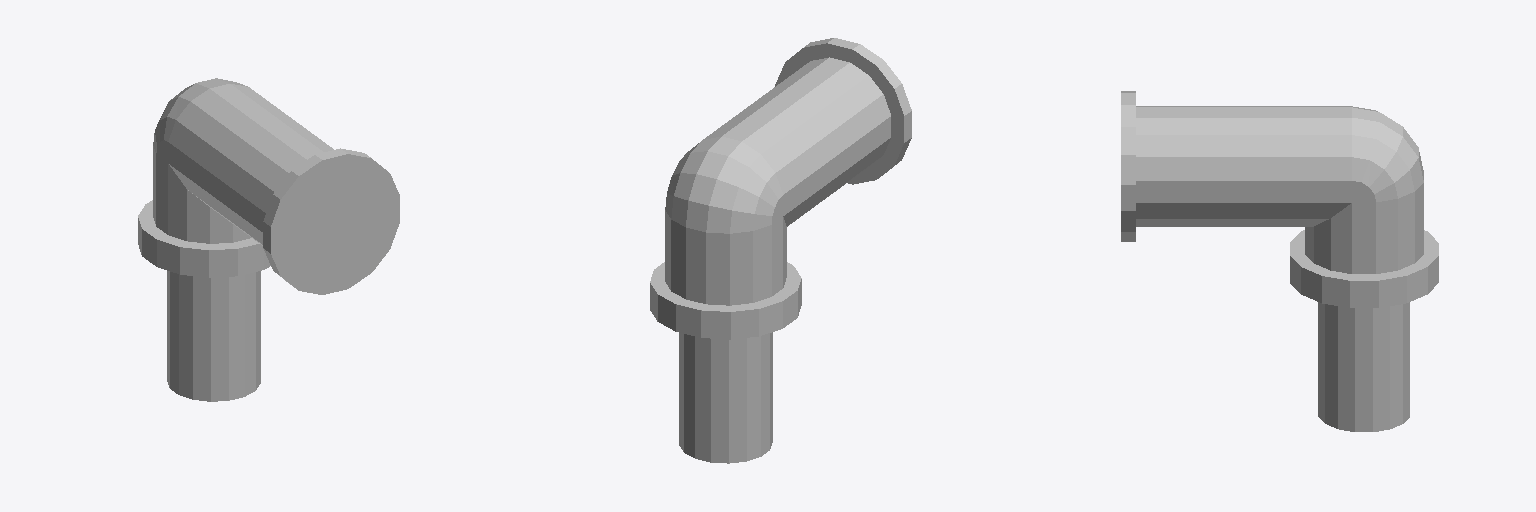
The model's file is pipeworks_spigot_pouring.obj.
3 views of the same model, side by side, from view 1: azimuth 30°, elevation 25°; view 2: azimuth 150°, elevation 25°; view 3: azimuth 270°, elevation 25° (orthographic).
Visible parts, largest first — view 1: pipe.000_Cylinder.001, pipe.001_Cylinder.000; view 2: pipe.000_Cylinder.001, pipe.001_Cylinder.000; view 3: pipe.000_Cylinder.001, pipe.001_Cylinder.000.
Boxes of the visible parts, x1,y1,x2,y2 form: pipe.000_Cylinder.001: [138, 78, 399, 294]; pipe.001_Cylinder.000: [167, 271, 260, 401]; pipe.000_Cylinder.001: [650, 38, 911, 339]; pipe.001_Cylinder.000: [679, 332, 772, 463]; pipe.000_Cylinder.001: [1121, 91, 1438, 307]; pipe.001_Cylinder.000: [1318, 302, 1409, 431].
Bounding box in the file's own units: 0.3065 × 0.7123 × 0.6532.